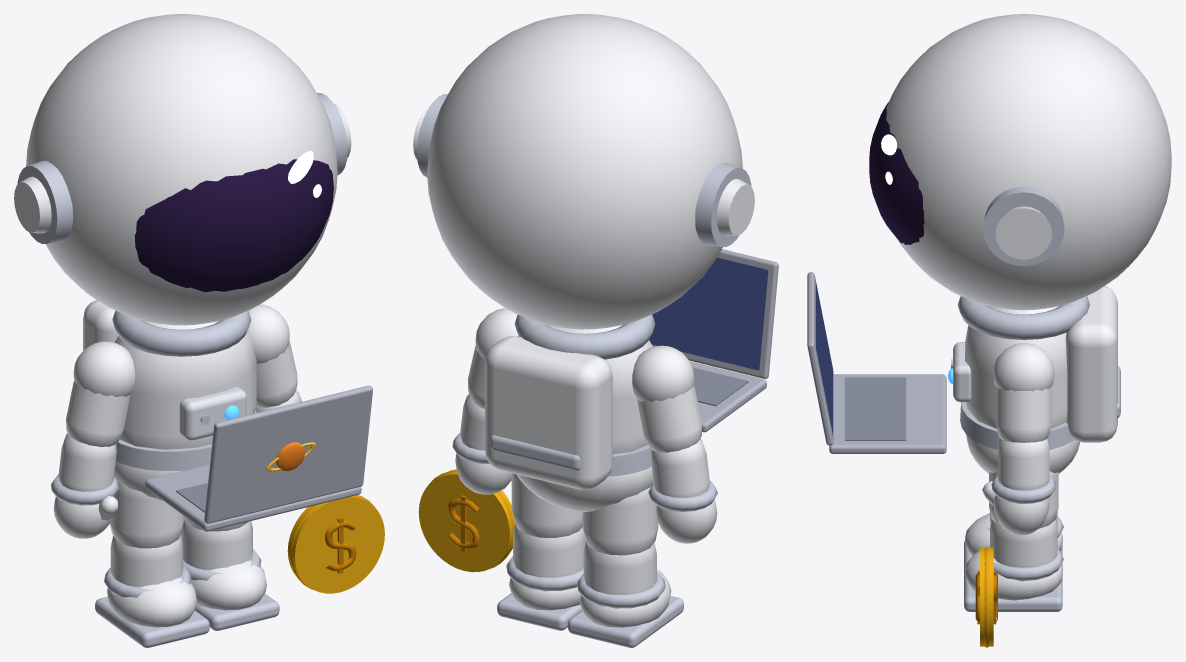
Rendered from astronaut.glb.
3 renders of one model, left to right at view 1: azimuth 30°, elevation 25°; view 2: azimuth 150°, elevation 25°; view 3: azimuth 270°, elevation 25°, orthographic. The views are drawn at different scales.
Visible parts, largest first — view 1: Helmet, Visor, LaptopLid, TorsoMesh, CoinBody, NeckRing, ThighR, LaptopBase, BootR, UpperArmR, ShinMeshR, ShoulderR (+19 smaller); view 2: Helmet, Backpack, LaptopDisplay, CoinBody, ThighR, NeckRing, UpperArmR, TorsoMesh, ShinMeshR, PelvisMesh, ShinMeshL, ShoulderR (+24 smaller); view 3: Helmet, Backpack, LaptopBase, TorsoMesh, Visor, LaptopKeyboard, NeckRing, EarPieceL, UpperArmL, ShoulderL, ForearmMeshL, ShinMeshL (+14 smaller).
Part boxes in pixels (x1,y1,x2,y2): Helmet: [26, 14, 337, 325]; Visor: [134, 159, 333, 292]; LaptopLid: [204, 385, 372, 523]; TorsoMesh: [114, 321, 256, 449]; CoinBody: [287, 496, 384, 593]; NeckRing: [112, 310, 251, 356]; ThighR: [110, 481, 184, 548]; LaptopBase: [145, 464, 361, 531]; BootR: [107, 576, 197, 627]; UpperArmR: [66, 381, 130, 446]; ShinMeshR: [110, 534, 183, 586]; ShoulderR: [73, 341, 135, 396]; Helmet: [427, 14, 742, 329]; Backpack: [485, 336, 612, 489]; LaptopDisplay: [649, 257, 768, 370]; CoinBody: [418, 469, 515, 572]; ThighR: [582, 487, 658, 555]; NeckRing: [514, 314, 655, 359]; UpperArmR: [637, 385, 702, 452]; TorsoMesh: [518, 325, 652, 453]; ShinMeshR: [583, 541, 656, 594]; PelvisMesh: [516, 467, 653, 512]; ShinMeshL: [513, 524, 585, 577]; ShoulderR: [632, 345, 694, 401]; Helmet: [886, 14, 1171, 310]; Backpack: [1065, 286, 1117, 442]; LaptopBase: [829, 374, 946, 453]; TorsoMesh: [965, 306, 1067, 428]; Visor: [869, 102, 924, 244]; LaptopKeyboard: [844, 377, 906, 440]; NeckRing: [958, 296, 1089, 339]; EarPieceL: [983, 186, 1064, 266]; UpperArmL: [996, 386, 1051, 442]; ShoulderL: [993, 343, 1054, 391]; ForearmMeshL: [998, 438, 1049, 490]; ShinMeshL: [990, 519, 1057, 567].
Size of the model in its own units: 0.597 by 0.9902 by 0.5891.
